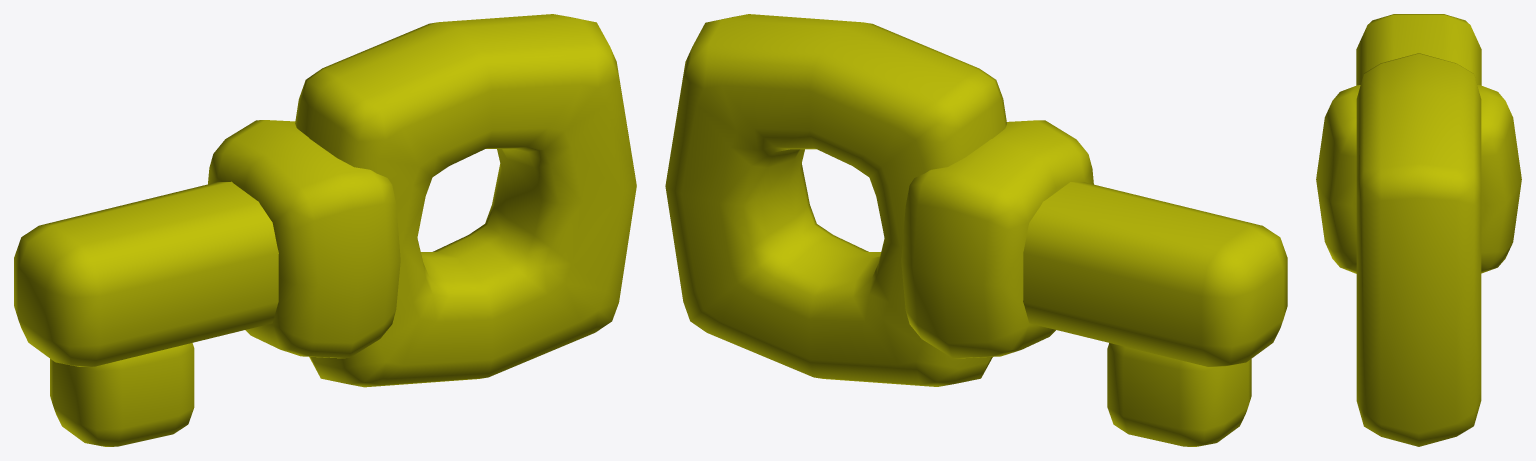
The model's file is key-gold.glb.
3 renders of one model, left to right at view 1: azimuth 30°, elevation 25°; view 2: azimuth 150°, elevation 25°; view 3: azimuth 270°, elevation 25°, orthographic. The views are drawn at different scales.
Visible parts, largest first — view 1: key_gold_LOD0; view 2: key_gold_LOD0; view 3: key_gold_LOD0.
Part boxes in pixels (x1=…): key_gold_LOD0: x1=14, y1=14, x2=636, y2=446; key_gold_LOD0: x1=665, y1=14, x2=1287, y2=446; key_gold_LOD0: x1=1316, y1=14, x2=1521, y2=446.
Size of what is drawn, in the model's own units: 1.08 by 0.6035 by 0.3508.
Materials: 1 (1 with a texture image).
